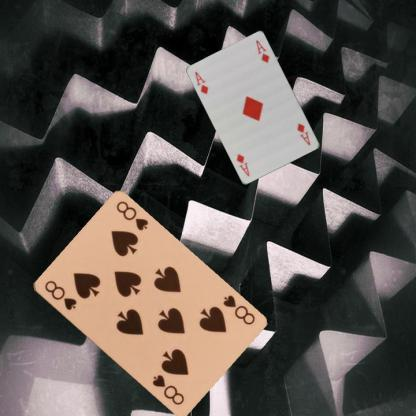8s: (220, 292, 256, 326), (42, 278, 78, 311)
Ad: (192, 69, 210, 96), (295, 121, 312, 147)
